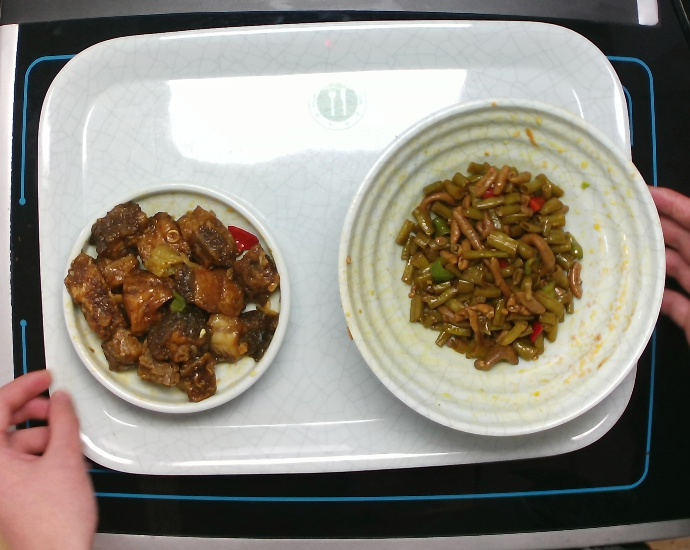JYsf-Da_Tang_Wan: (336, 94, 667, 441)
JYsf-Xiao_Yuan_Pan: (57, 180, 290, 419)
